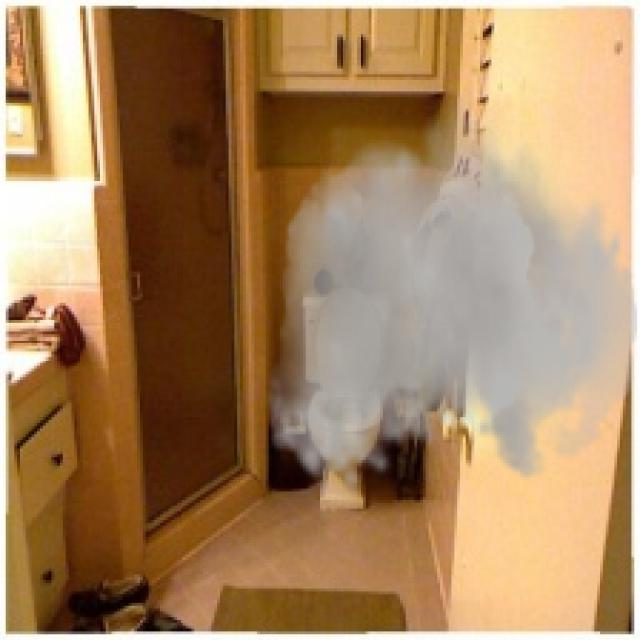Smoke: (266, 89, 638, 492)
